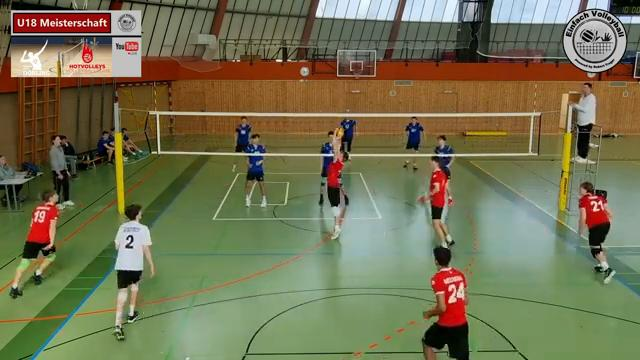Player: (113, 204, 154, 339), (10, 190, 58, 298), (422, 247, 468, 359), (579, 182, 615, 283), (428, 156, 454, 246), (244, 134, 266, 207), (319, 131, 333, 205), (434, 135, 453, 178), (405, 116, 423, 153), (340, 118, 356, 152), (232, 161, 236, 171)
Set: (326, 126, 347, 244)
ball: (334, 126, 346, 139)
